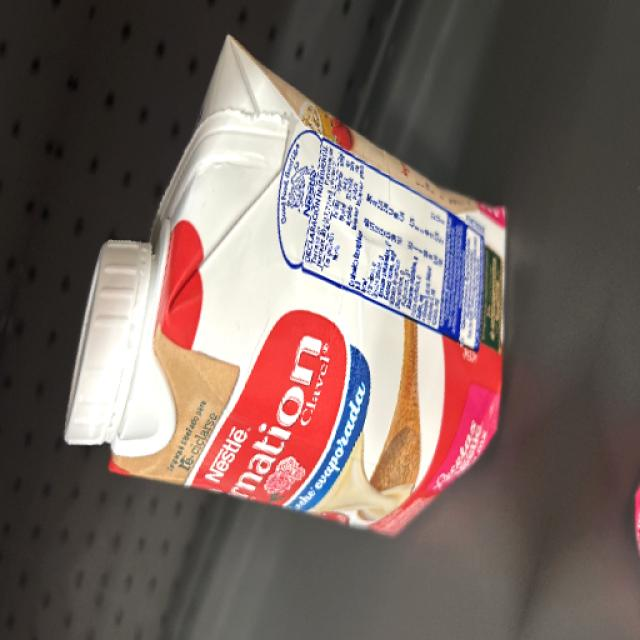nestleCarnation: (79, 148, 502, 521)
